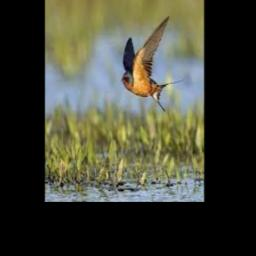Swallow: (121, 16, 184, 113)
